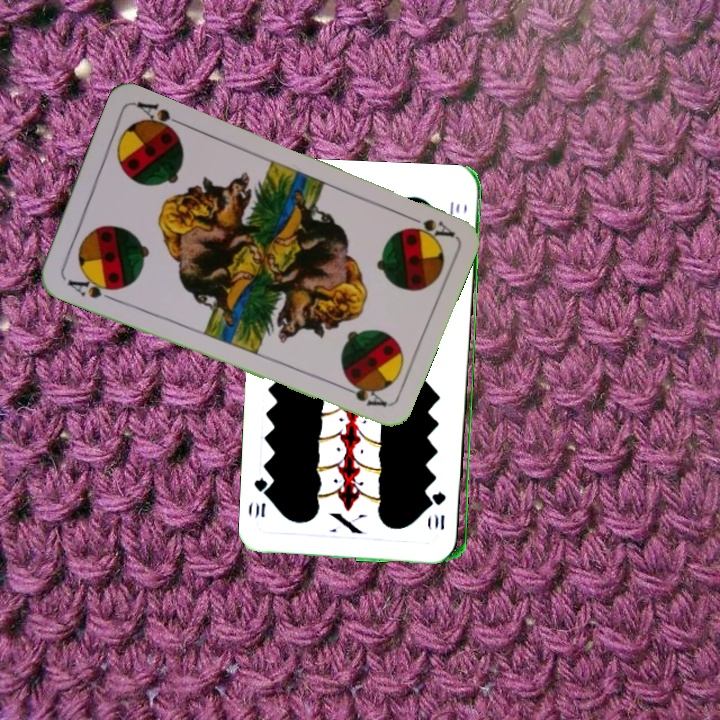G10: (432, 487, 449, 532)
SA: (400, 210, 457, 245), (63, 271, 120, 304)
